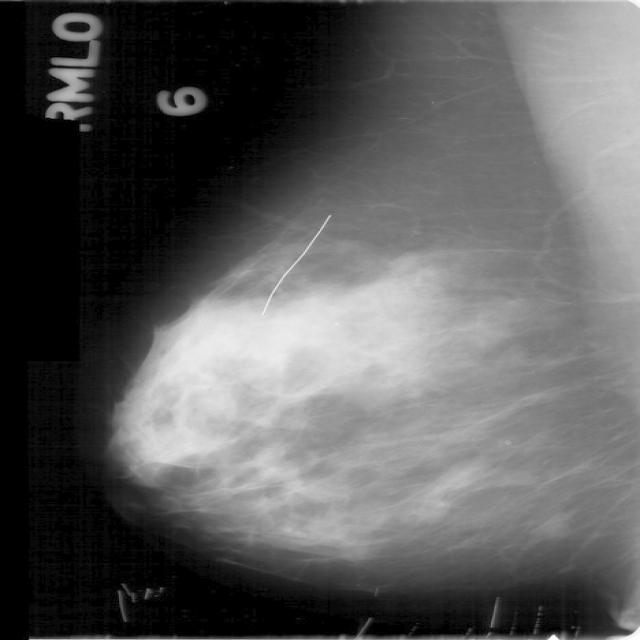tumour: (526, 510, 573, 539)
